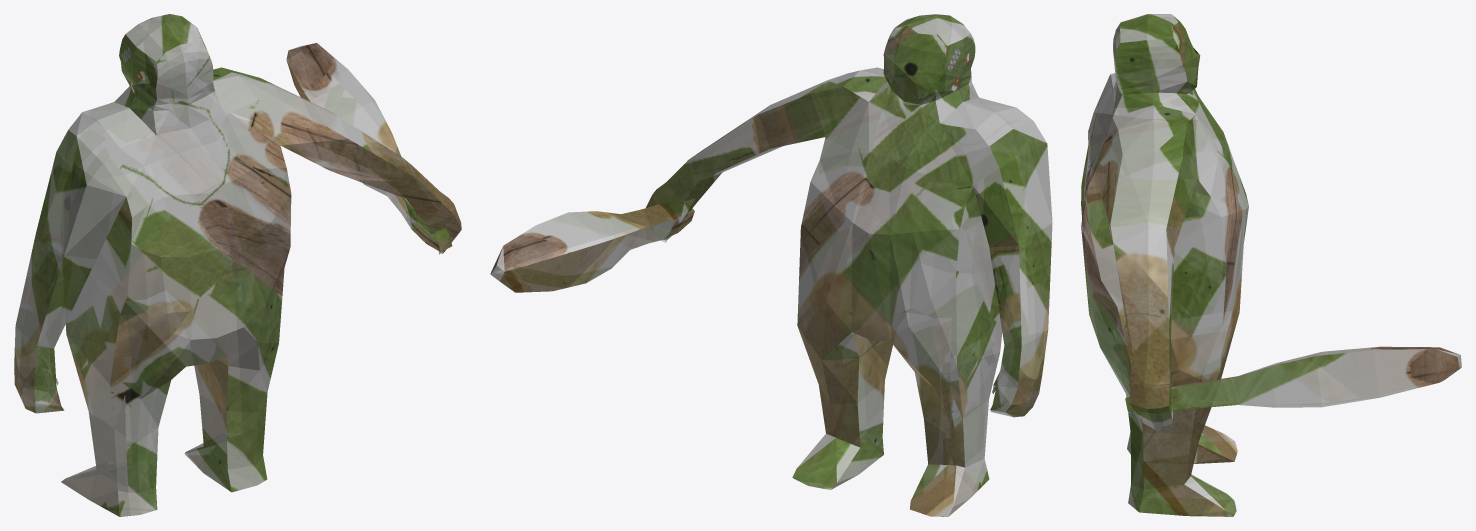
File: Enemigo218.obj
The picture shows the model from 3 angles, left to right: view 1: azimuth 30°, elevation 25°; view 2: azimuth 150°, elevation 25°; view 3: azimuth 270°, elevation 25°; orthographic projection. The views are drawn at different scales.
Parts seen in each view (by area): view 1: Cube; view 2: Cube; view 3: Cube.
Part boxes in pixels (<box>): Cube: <box>14,14,461,516</box>; Cube: <box>490,14,1052,516</box>; Cube: <box>1081,14,1461,516</box>.
Bounding box in the file's own units: 2.59 × 2.7 × 2.04.
Materials: 1 (1 with a texture image).
